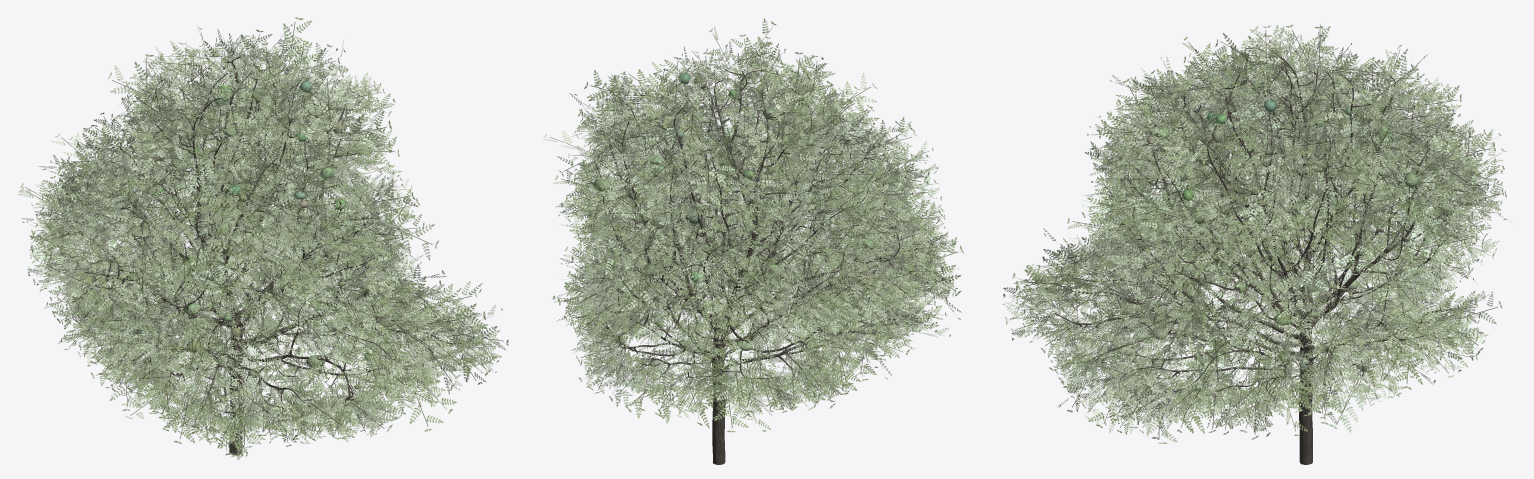
The model's file is tree_45_broadleaf.glb.
3 views of the same model, side by side, from view 1: azimuth 30°, elevation 25°; view 2: azimuth 150°, elevation 25°; view 3: azimuth 270°, elevation 25° (orthographic). The views are drawn at different scales.
Visible parts, largest first — view 1: tree_45_broadleaf.leaves, tree_45_broadleaf.trunk_branches, tree_45_broadleaf.foliage_volume; view 2: tree_45_broadleaf.leaves, tree_45_broadleaf.trunk_branches, tree_45_broadleaf.foliage_volume; view 3: tree_45_broadleaf.leaves, tree_45_broadleaf.trunk_branches, tree_45_broadleaf.foliage_volume.
Boxes of the visible parts, <box> form: tree_45_broadleaf.leaves: <box>18,17,508,460</box>; tree_45_broadleaf.trunk_branches: <box>66,57,461,454</box>; tree_45_broadleaf.foliage_volume: <box>69,81,394,400</box>; tree_45_broadleaf.leaves: <box>543,18,963,432</box>; tree_45_broadleaf.trunk_branches: <box>594,69,927,464</box>; tree_45_broadleaf.foliage_volume: <box>593,73,899,350</box>; tree_45_broadleaf.leaves: <box>1003,24,1511,443</box>; tree_45_broadleaf.trunk_branches: <box>1050,56,1471,464</box>; tree_45_broadleaf.foliage_volume: <box>1130,80,1455,391</box>.
Bounding box in the file's own units: 12.93 × 12.79 × 13.73.
Materials: 3 (2 with a texture image).
